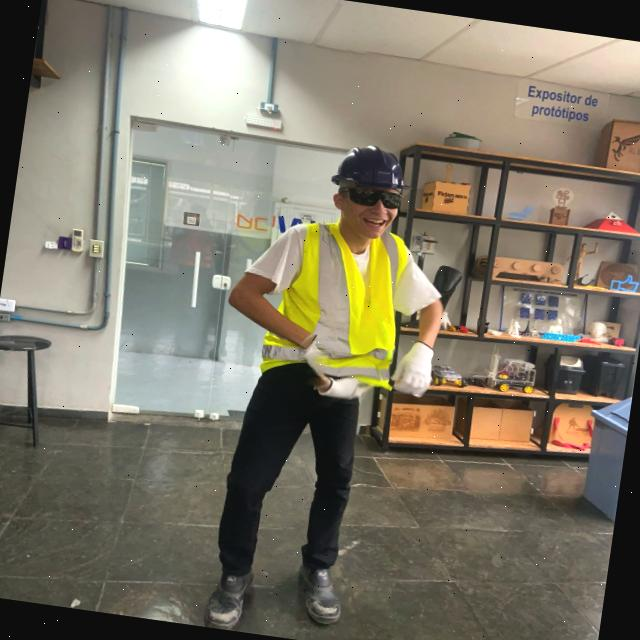BOTA: (204, 559, 258, 629), (296, 554, 342, 627)
CAPACETE: (328, 144, 413, 191)
COLETE: (264, 218, 408, 392)
LUVA: (389, 339, 435, 400)
OCULOS: (348, 187, 403, 209)
